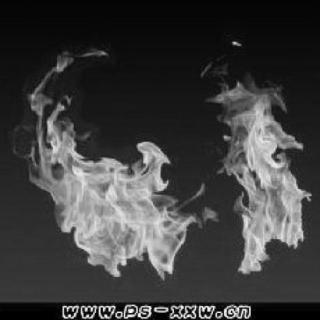Fire: (11, 47, 207, 283), (206, 69, 312, 279)
